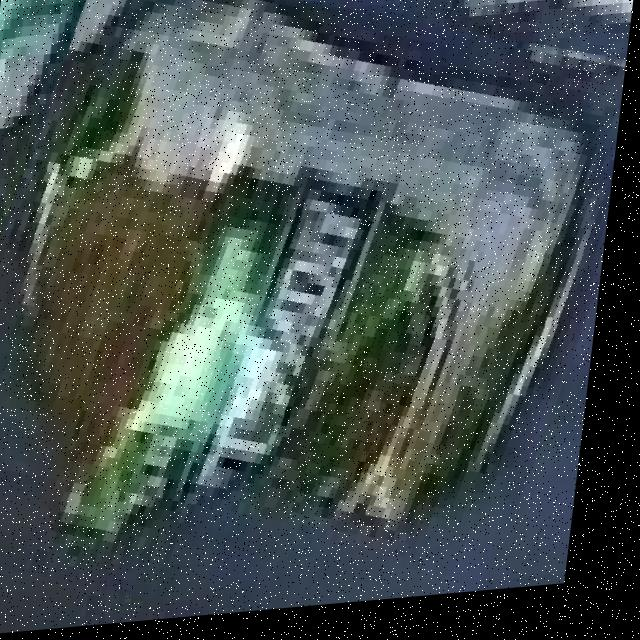can: (0, 0, 617, 576)
